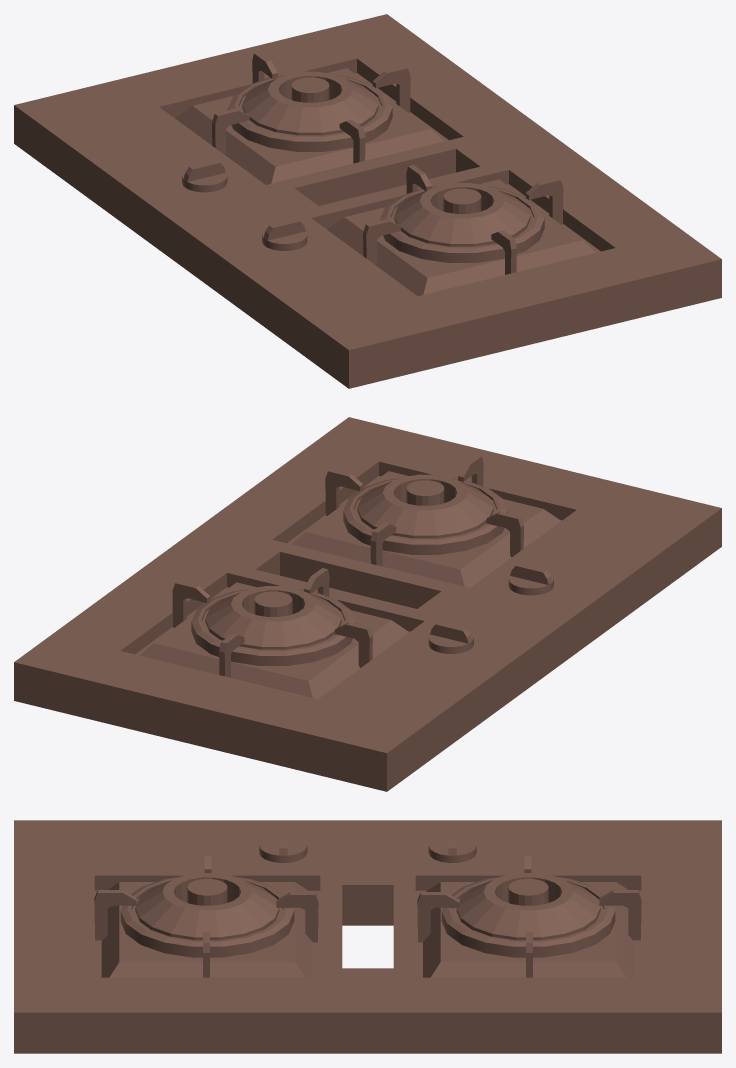
The model's file is zaotai2.fbx.
The picture shows the model from 3 angles, top to bottom: view 1: azimuth 30°, elevation 25°; view 2: azimuth 150°, elevation 25°; view 3: azimuth 270°, elevation 25°; orthographic projection. The views are drawn at different scales.
Parts seen in each view (by area): view 1: Box008; view 2: Box008; view 3: Box008.
Boxes of the visible parts, x1=… form: Box008: x1=14, y1=14, x2=721, y2=388; Box008: x1=14, y1=417, x2=721, y2=791; Box008: x1=14, y1=820, x2=721, y2=1053.
Bounding box in the file's own units: 11.52 × 2.23 × 17.91.
